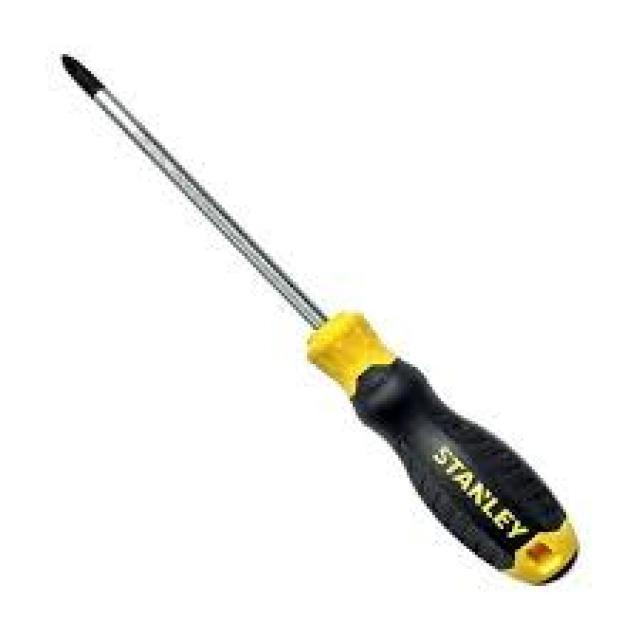screwdriver: (57, 49, 580, 590)
